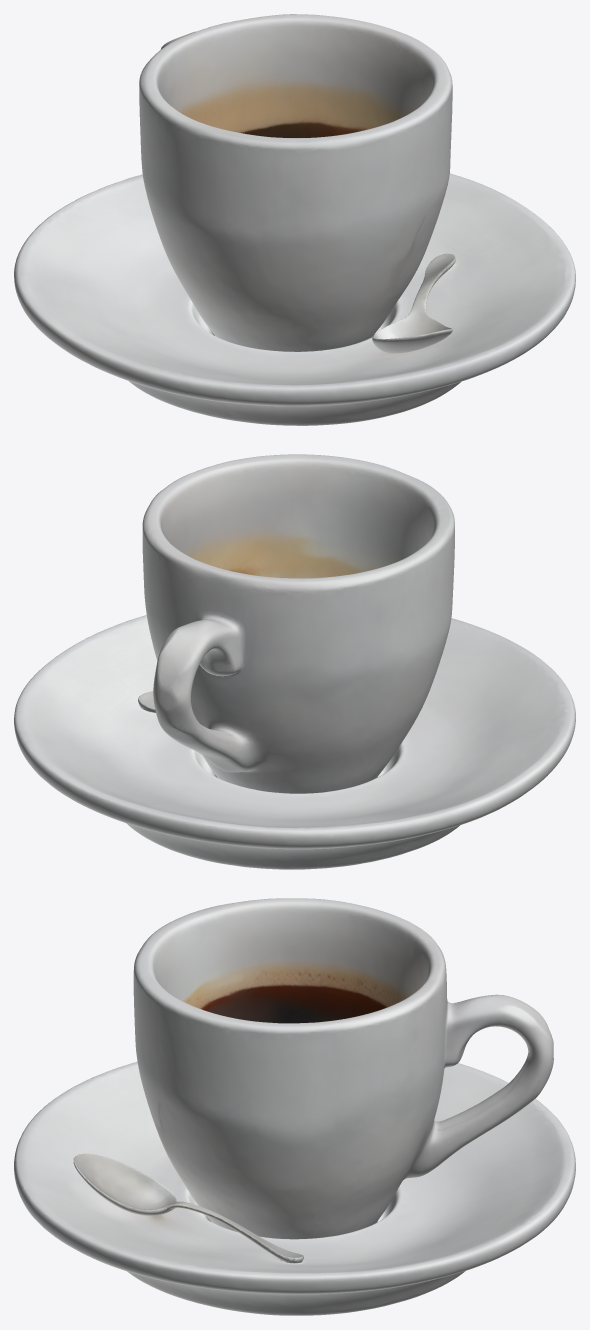
Rendered from cup.glb.
3 renders of one model, top to bottom at view 1: azimuth 30°, elevation 25°; view 2: azimuth 150°, elevation 25°; view 3: azimuth 270°, elevation 25°, orthographic.
Visible parts, largest first — view 1: model; view 2: model; view 3: model.
Part boxes in pixels (x1,y1,x2,y2): model: [14, 14, 575, 425]; model: [14, 454, 575, 869]; model: [14, 898, 575, 1315].
Bounding box in the file's own units: 1.89 × 1.03 × 1.9.
1 material, 1 textured.
